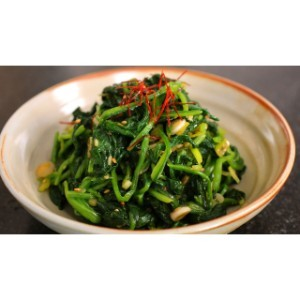spinach_brain food: (47, 77, 246, 218)
